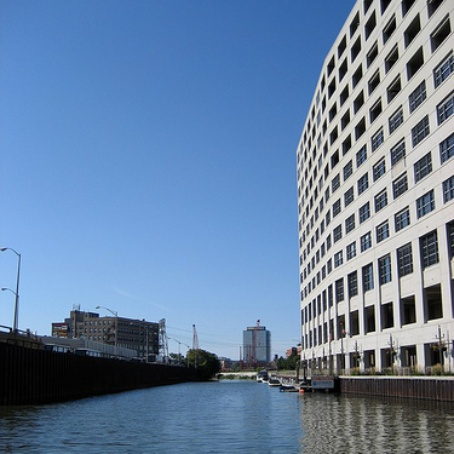building: (300, 1, 454, 384), (60, 306, 156, 358), (245, 321, 273, 361)
river: (1, 370, 453, 454)
sky: (1, 1, 296, 339)
